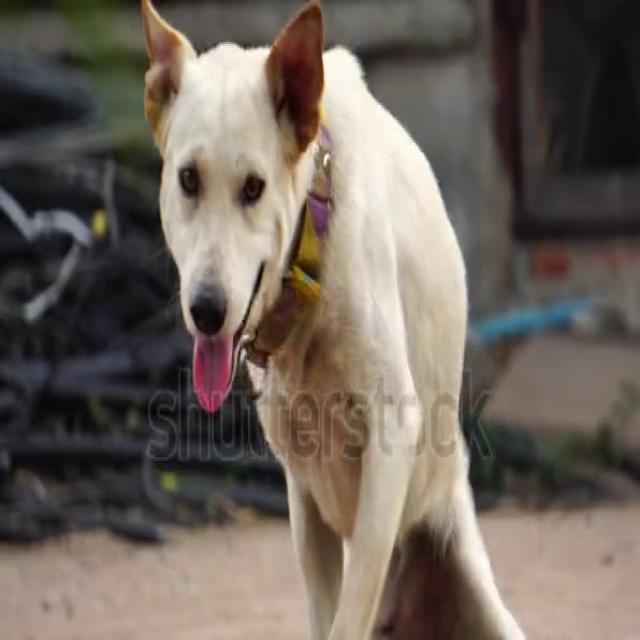injured-animals: (133, 0, 547, 638)
